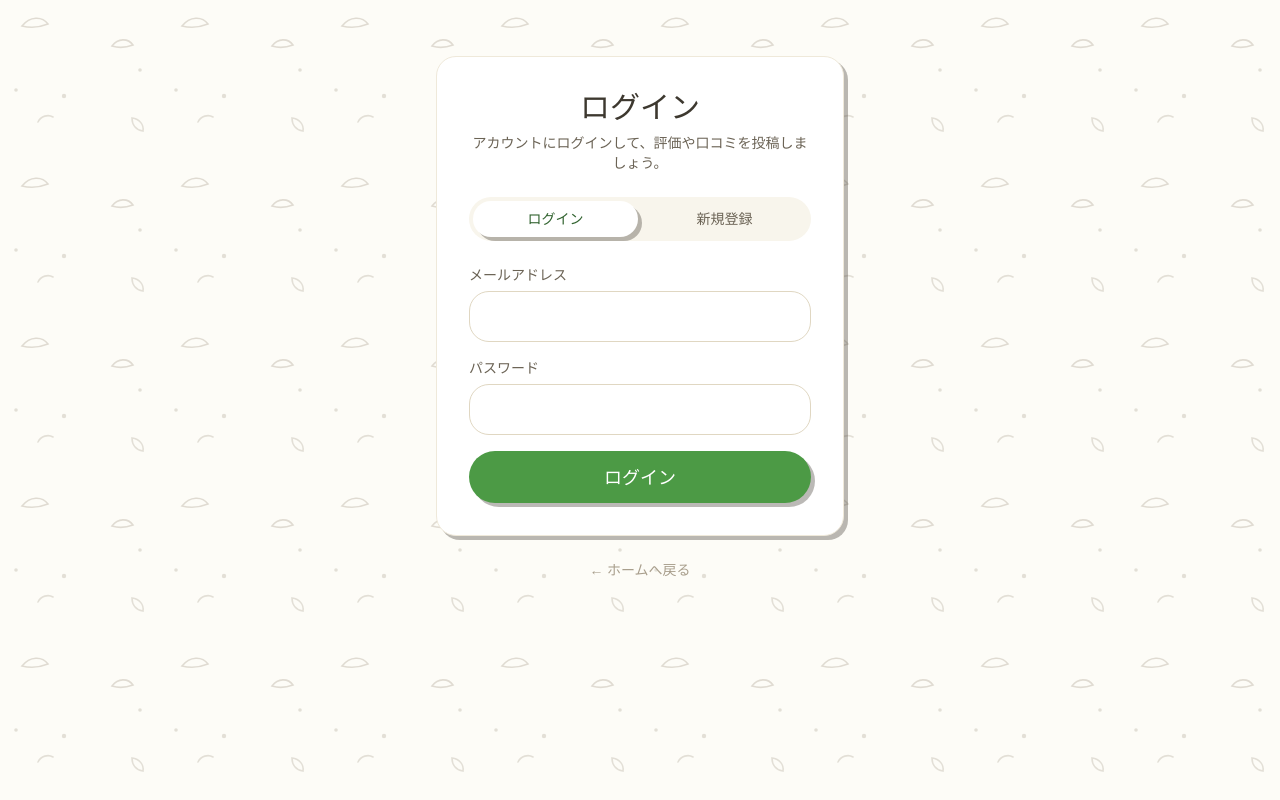
Test: LoginPage › surfaces the backend's message on failure
The width and height of the screenshot is (1280, 800).
In the field labelled "メールアドレス": point(640, 316) [469,291,811,342], type "taro@example.com"
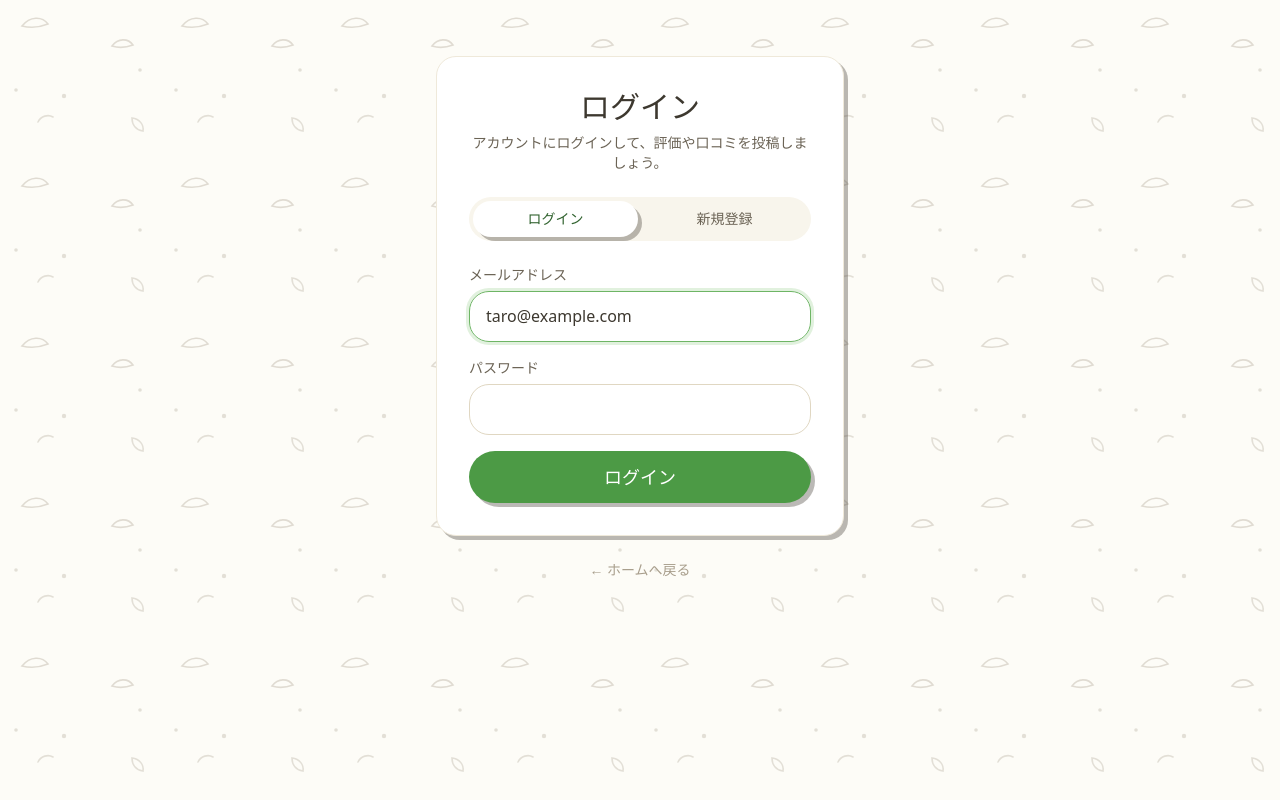
In the password field labelled "パスワード": point(640, 409) [469,384,811,435], type "wrong"
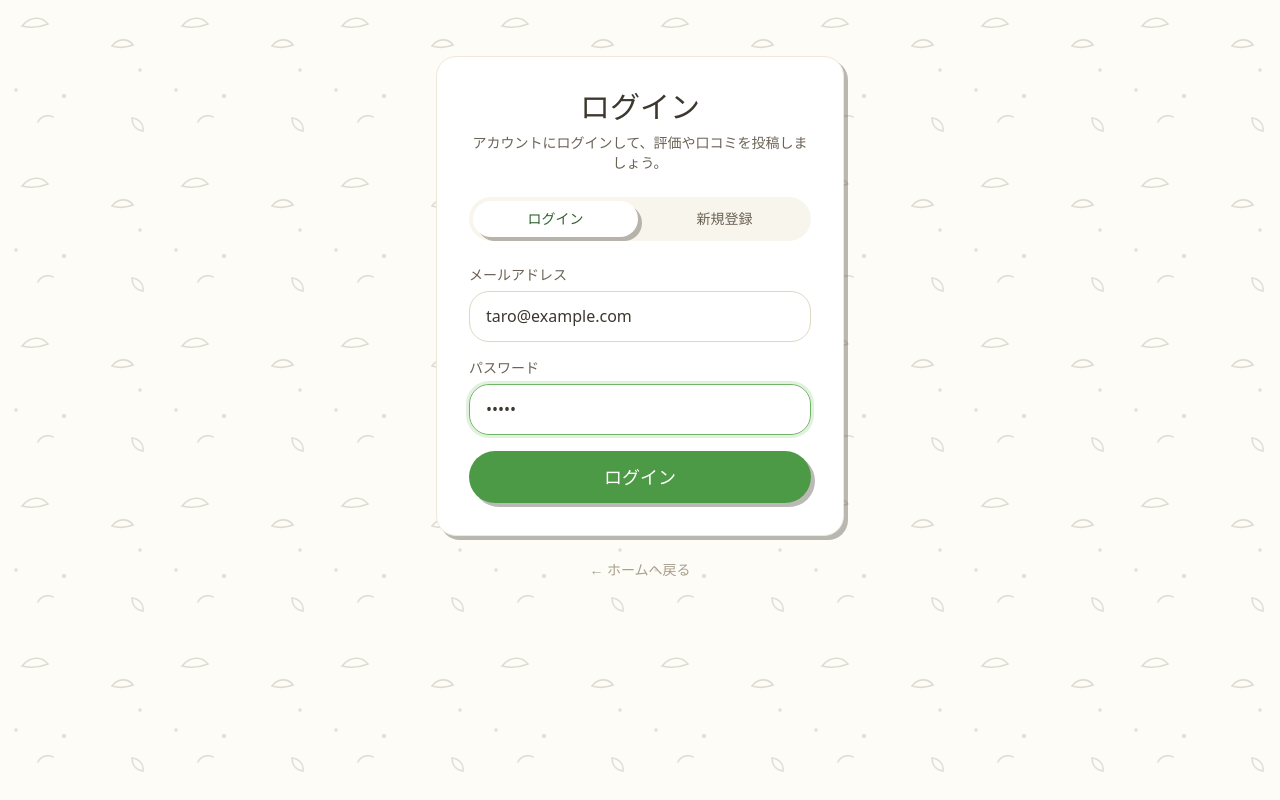
Click the button "ログイン": point(640, 477) [469,451,811,503]
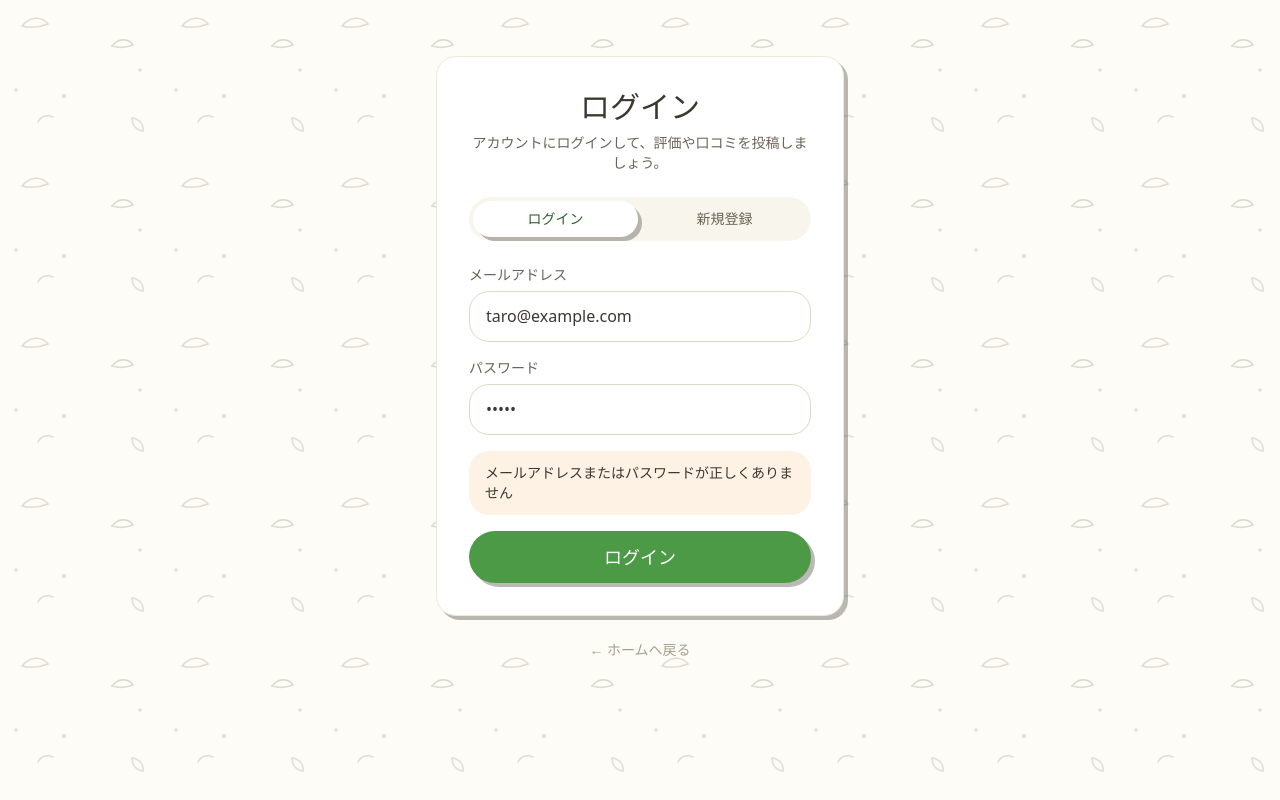
expect the message reads "メールアドレスまたはパスワードが正しくありません": met, box [485,463,793,502]
